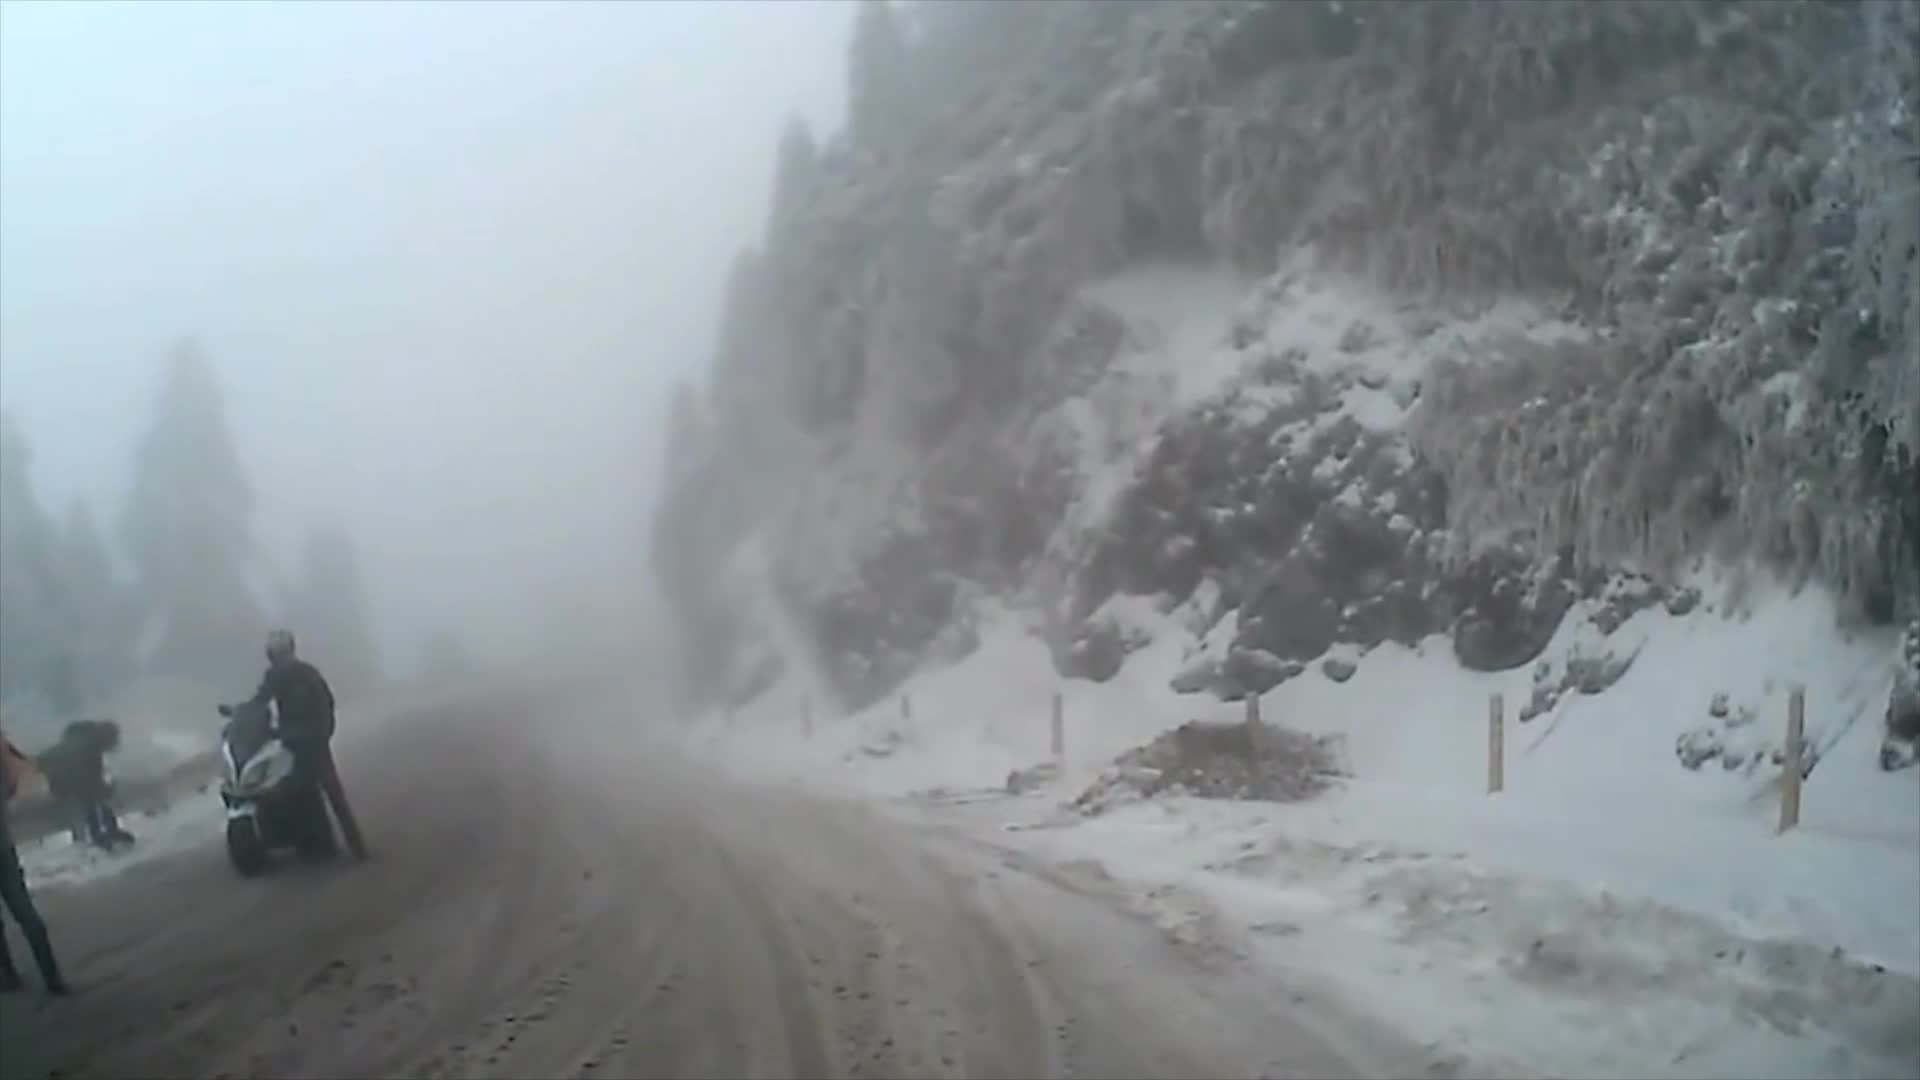pedestrian: (233, 629, 377, 875), (37, 721, 133, 855)
